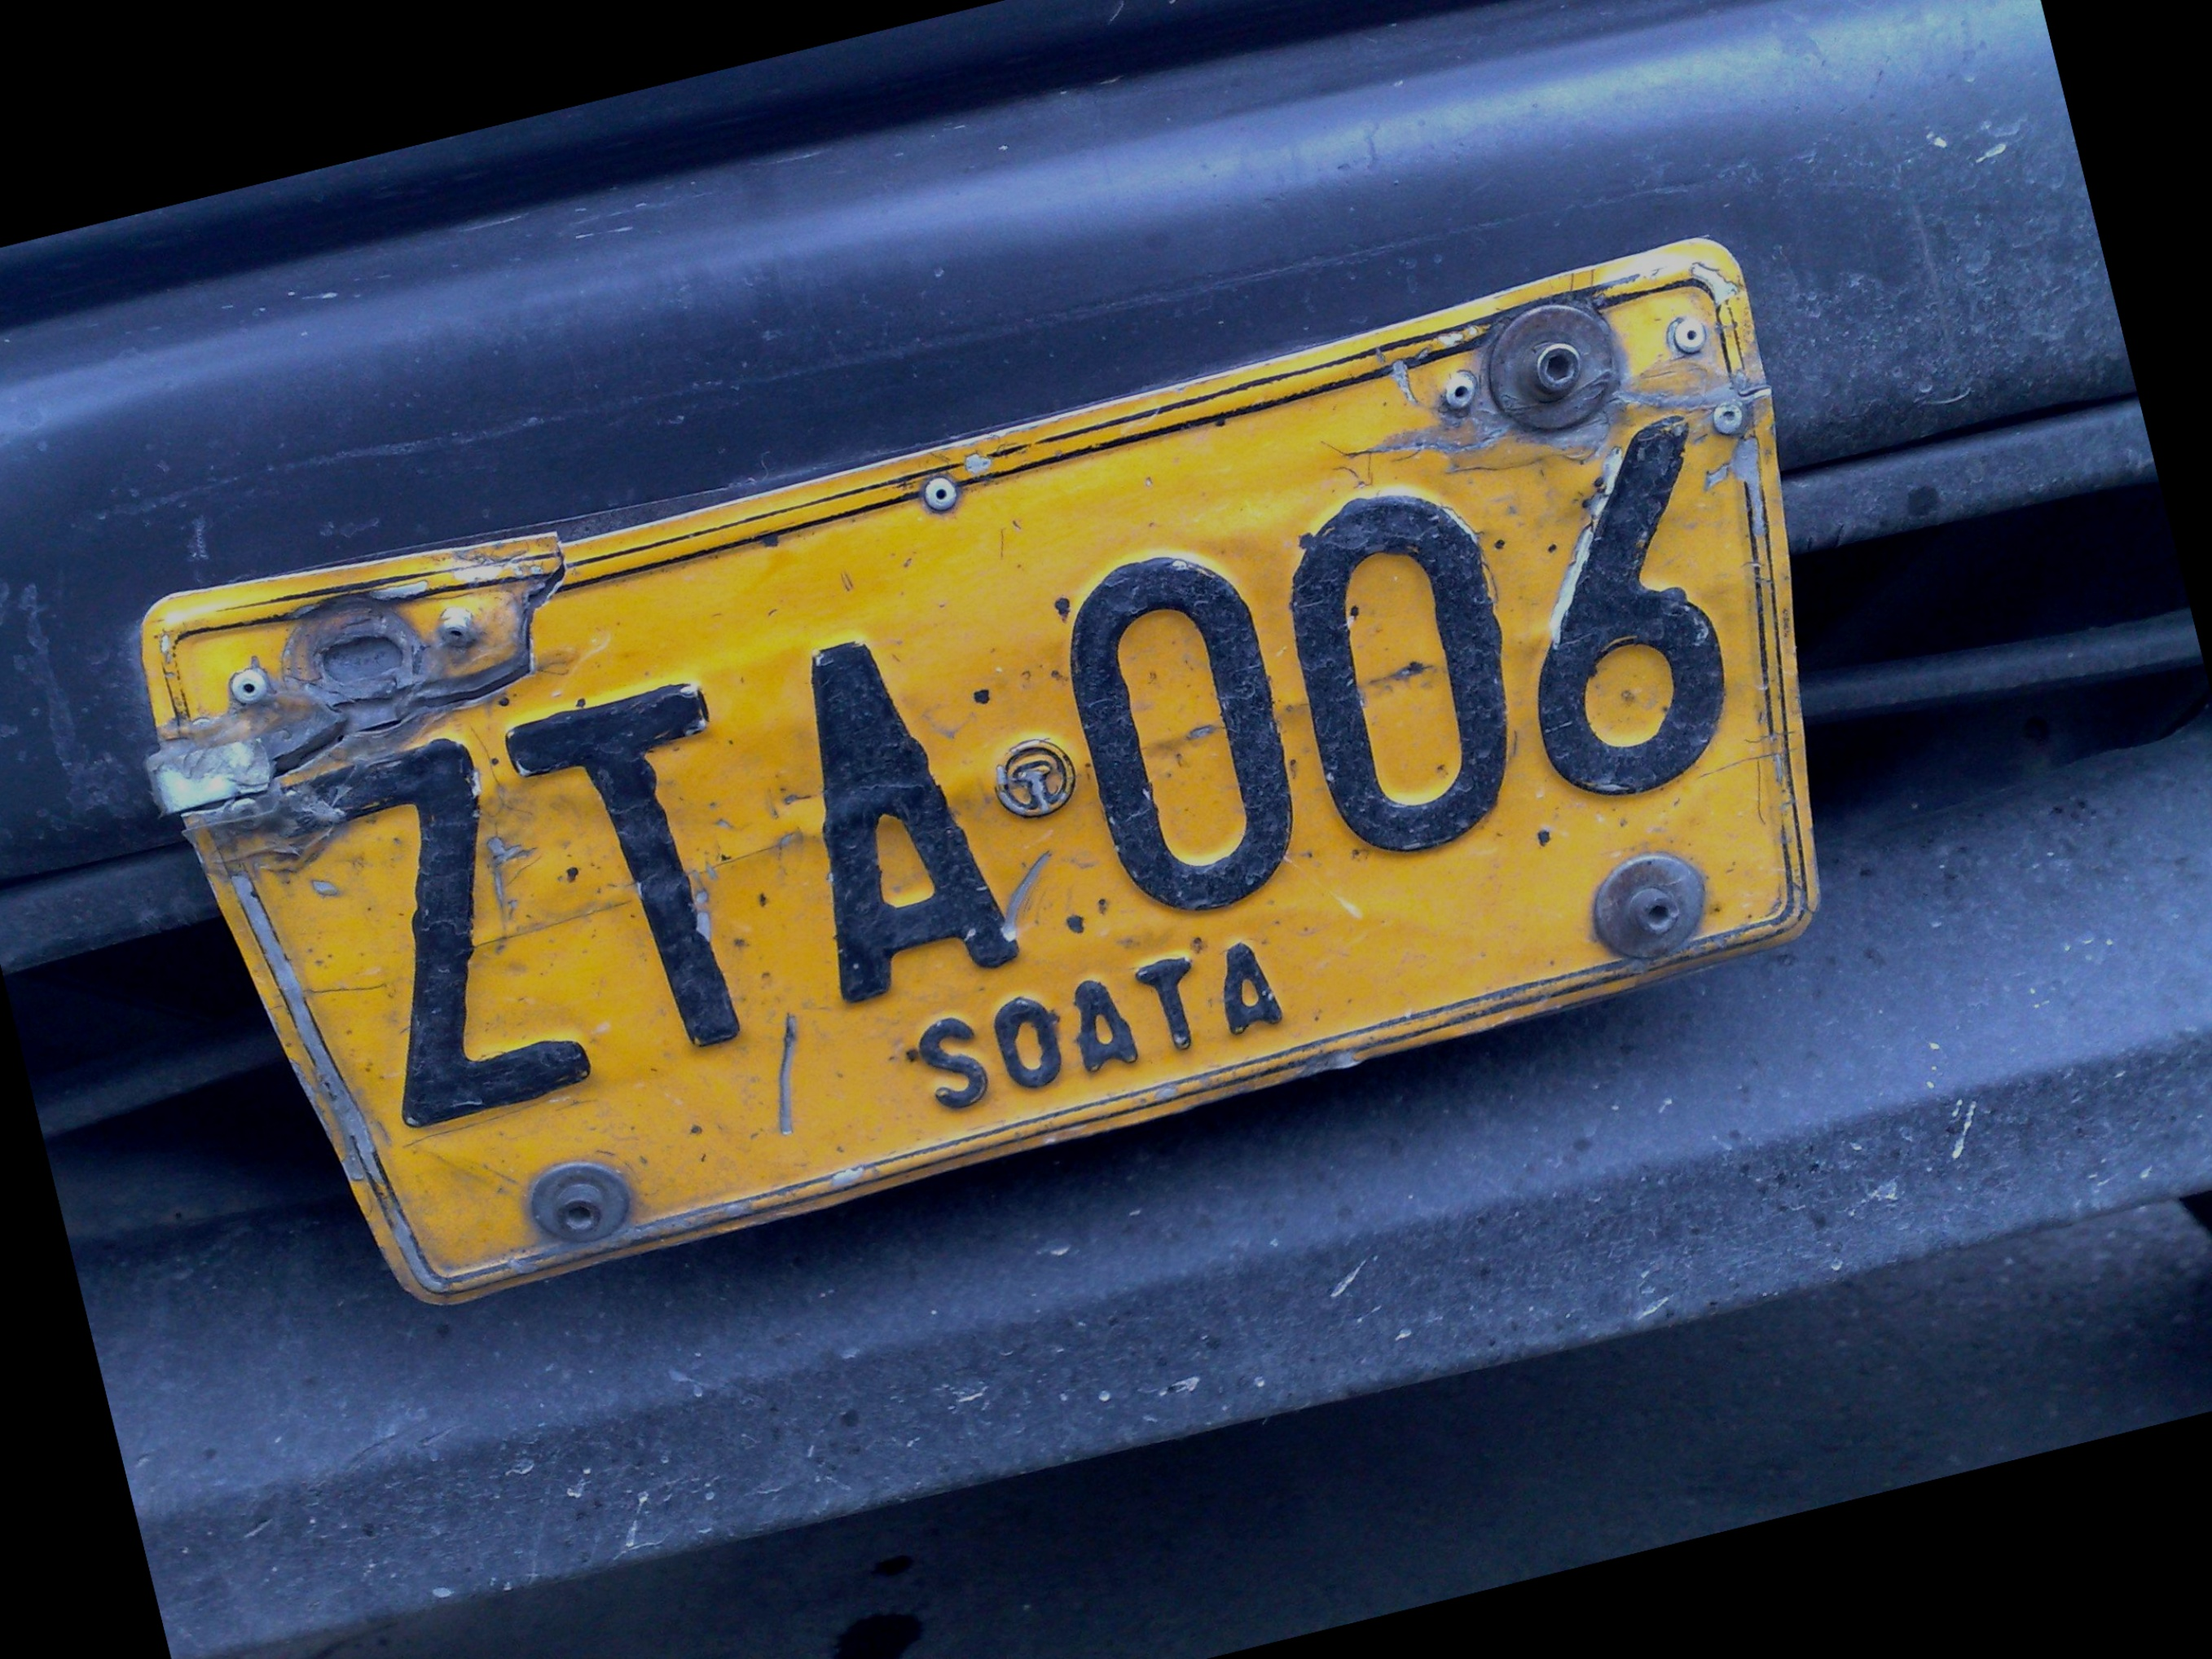placas: (86, 190, 1911, 1354)
